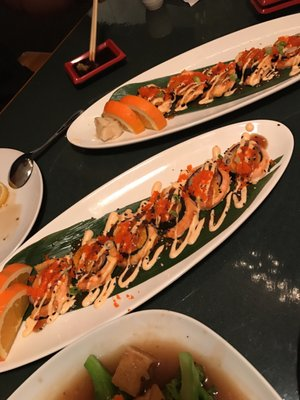sushi: (4, 309, 286, 400)
